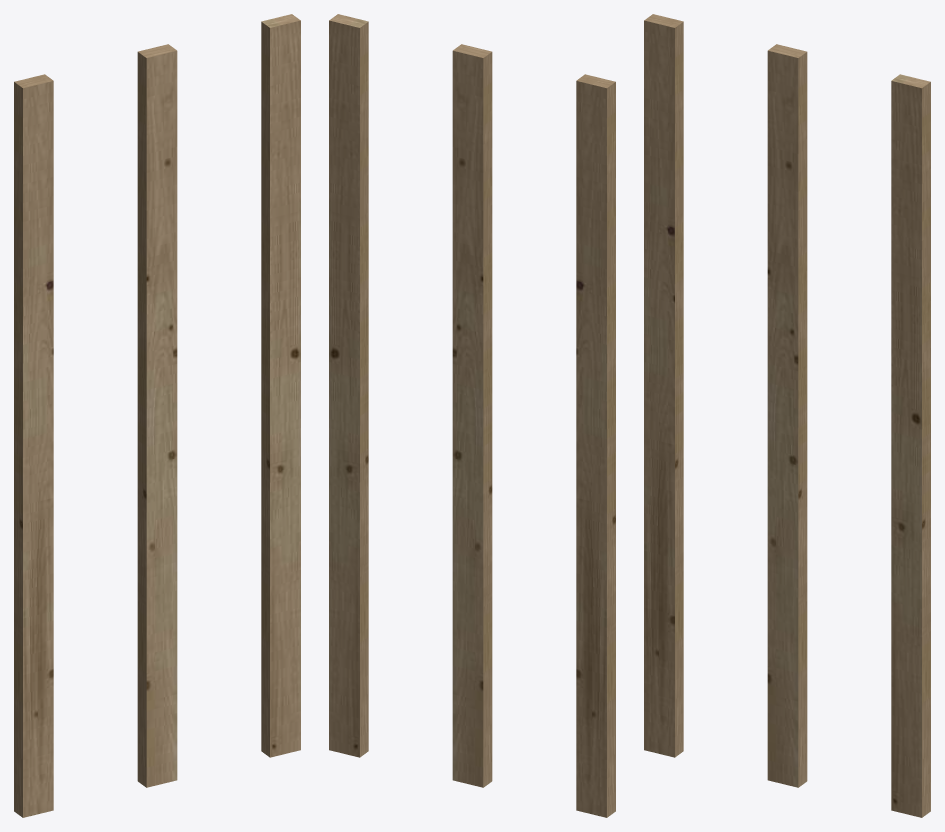
Rendered from Joglo_part_269.fbx.
3 views of the same model, side by side, from view 1: azimuth 30°, elevation 25°; view 2: azimuth 150°, elevation 25°; view 3: azimuth 330°, elevation 25° (orthographic).
Parts seen in each view (by area): view 1: Mesh336_Wood___Pine_Grained_Horizontal_0.001; view 2: Mesh336_Wood___Pine_Grained_Horizontal_0.001; view 3: Mesh336_Wood___Pine_Grained_Horizontal_0.001.
Boxes of the visible parts, x1=… form: Mesh336_Wood___Pine_Grained_Horizontal_0.001: x1=14, y1=14, x2=300, y2=817; Mesh336_Wood___Pine_Grained_Horizontal_0.001: x1=329, y1=14, x2=615, y2=817; Mesh336_Wood___Pine_Grained_Horizontal_0.001: x1=644, y1=14, x2=930, y2=817.
Bounding box in the file's own units: 28.43 × 71.34 × 1.57.
